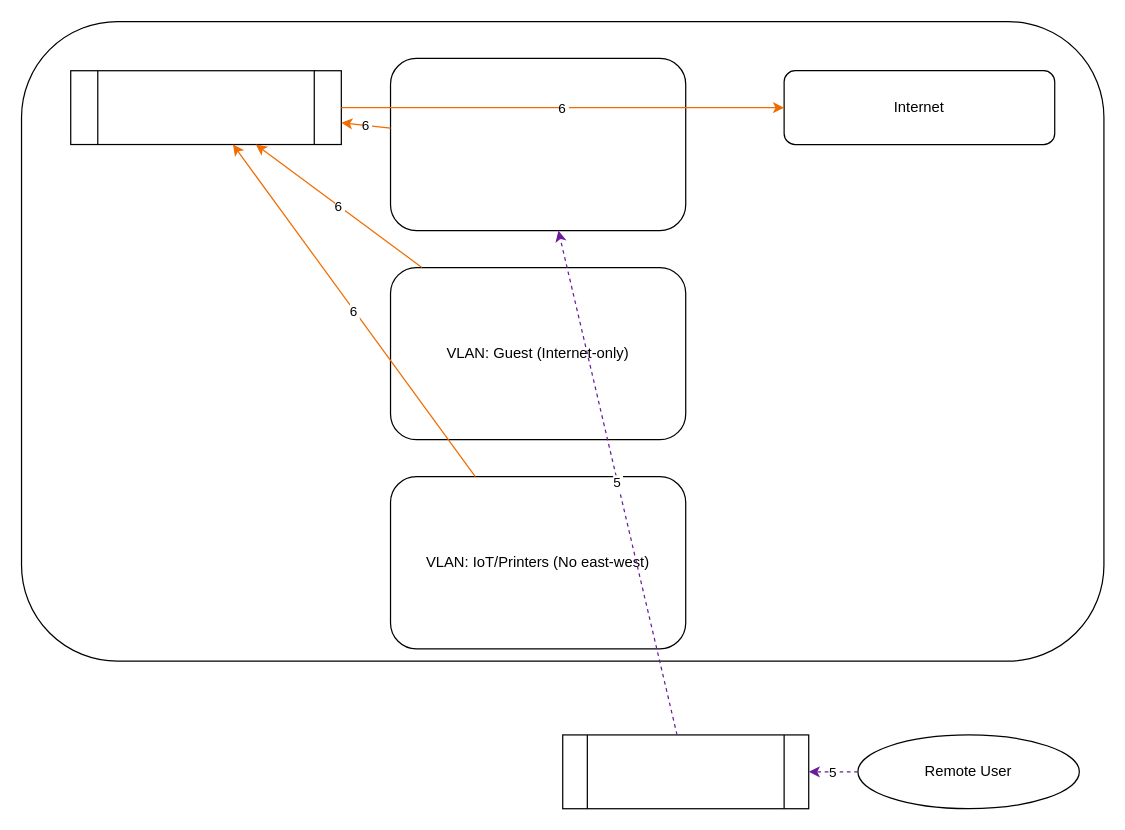
Image size: 1125x830. Some labels were removed from this diagram. The centre of each missing label's shape, as x and y in pixels:
NGFW/IPS + DNS Filter: (205,107)
VLAN: Staff (802.1X): (537,144)
ZTNA/VPN: (685,771)
